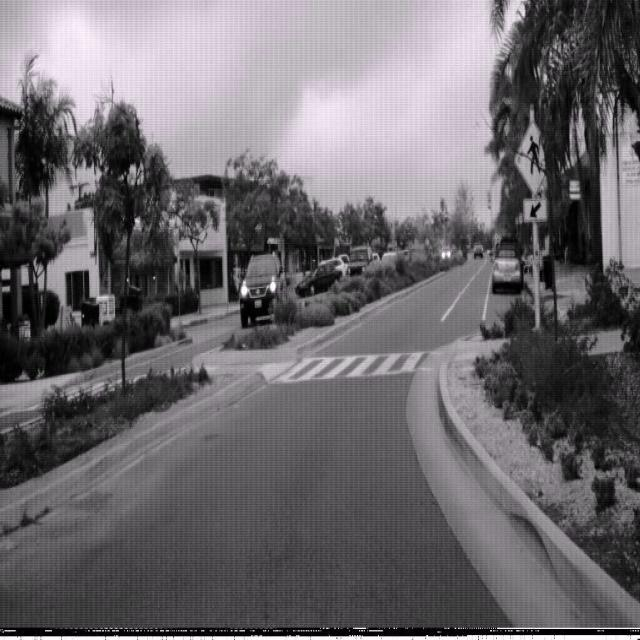pedestrianCrossing: (512, 118, 556, 197)
